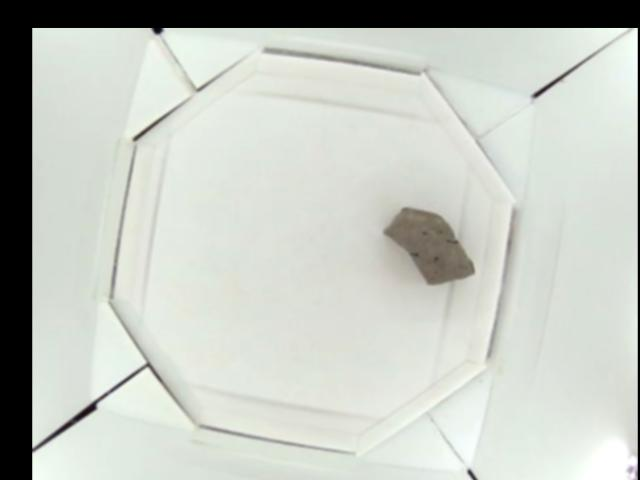China: (384, 204, 475, 286)
